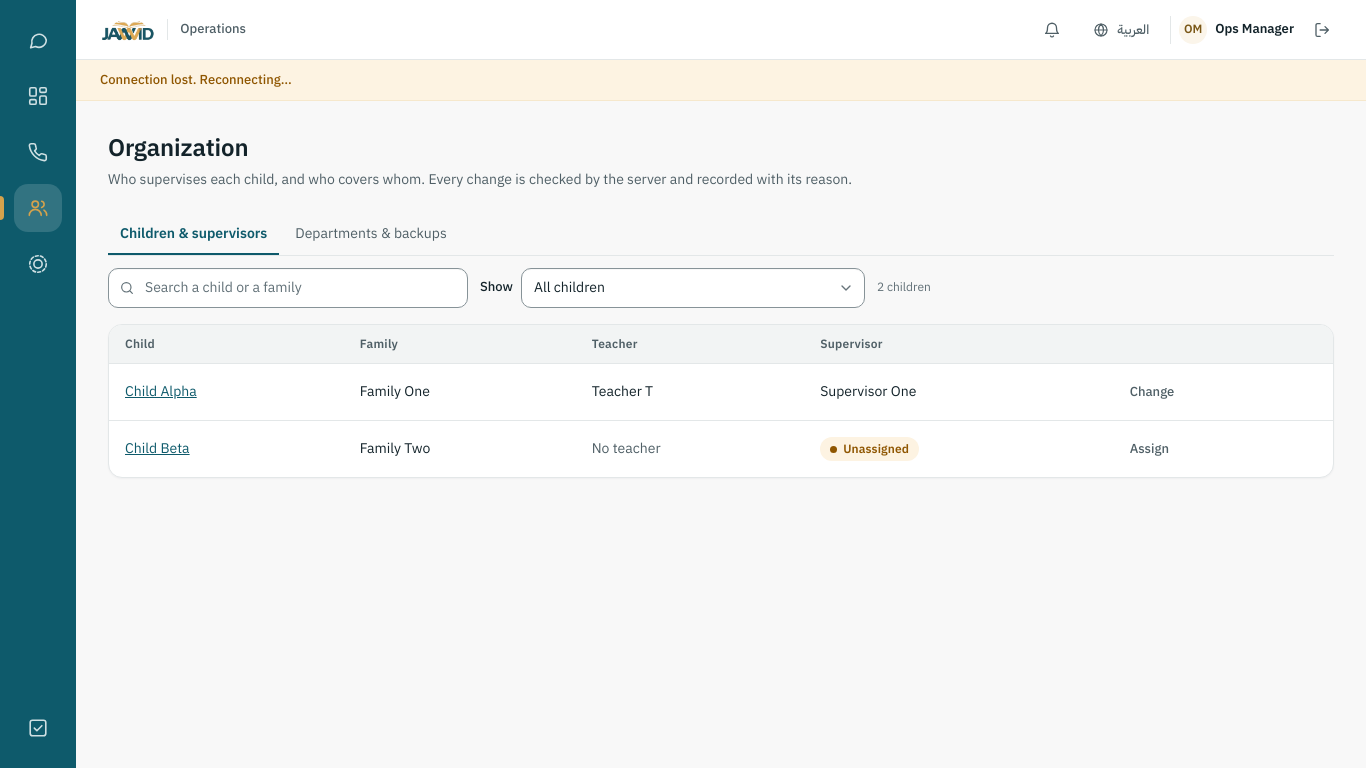
Test case: children and their supervisors › shows the server's refusal as it is, and keeps the dialog open
Click the button with aria-label "Assign — Child Beta" at coordinates (1149, 449), box 1117,433 -> 1182,465
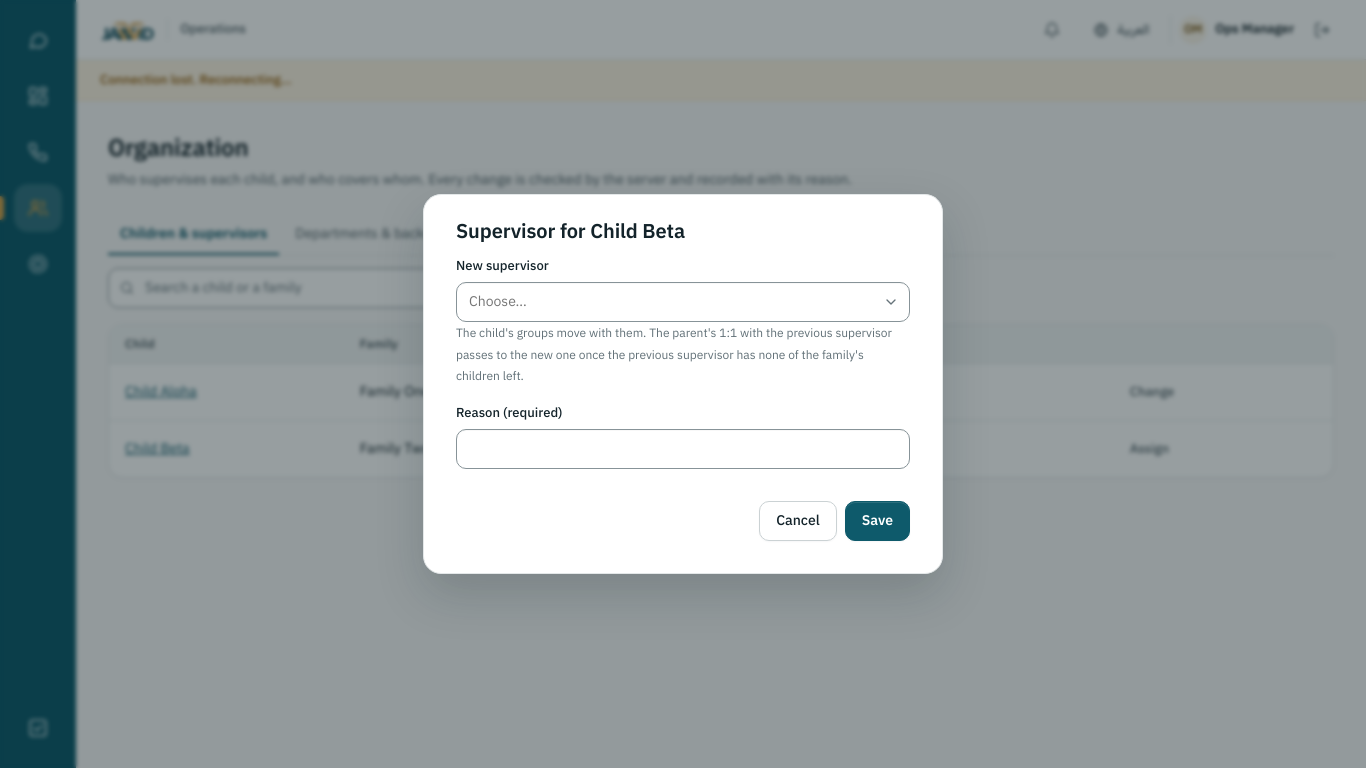
Click the dropdown labelled "New supervisor" at coordinates (683, 302), box 456,282 -> 910,322
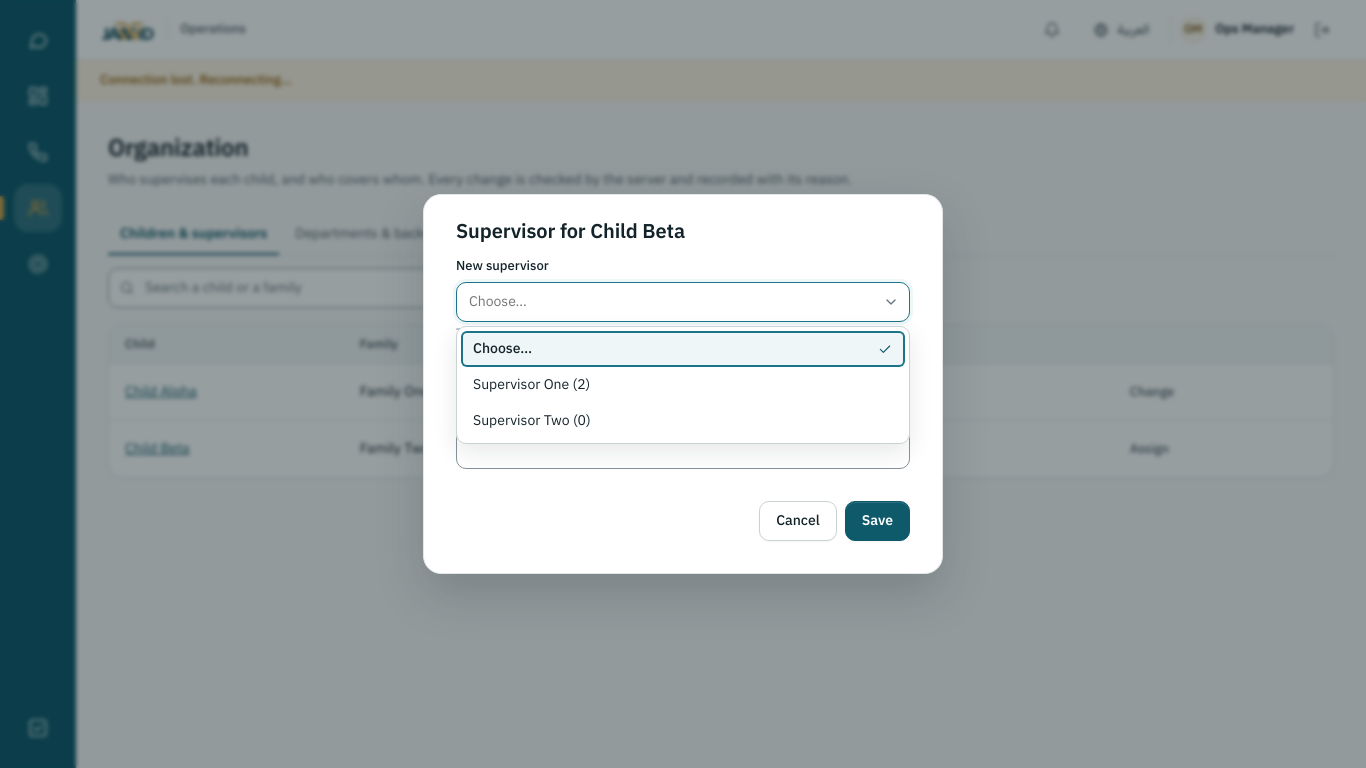
Click the option "Supervisor Two (0)" at coordinates (532, 421), box 473,410 -> 591,431
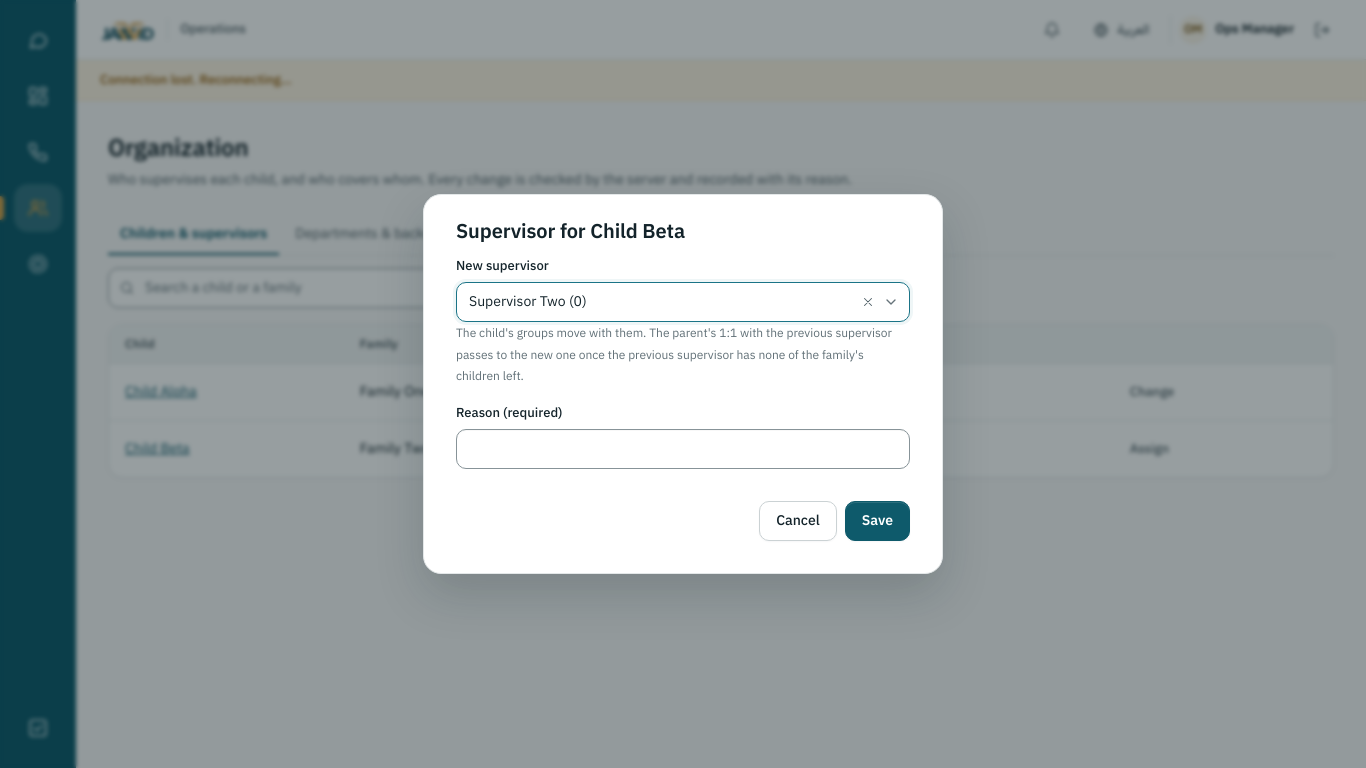
Type "x" into the field labelled "Reason (required)" at coordinates (683, 449), box 456,429 -> 910,469
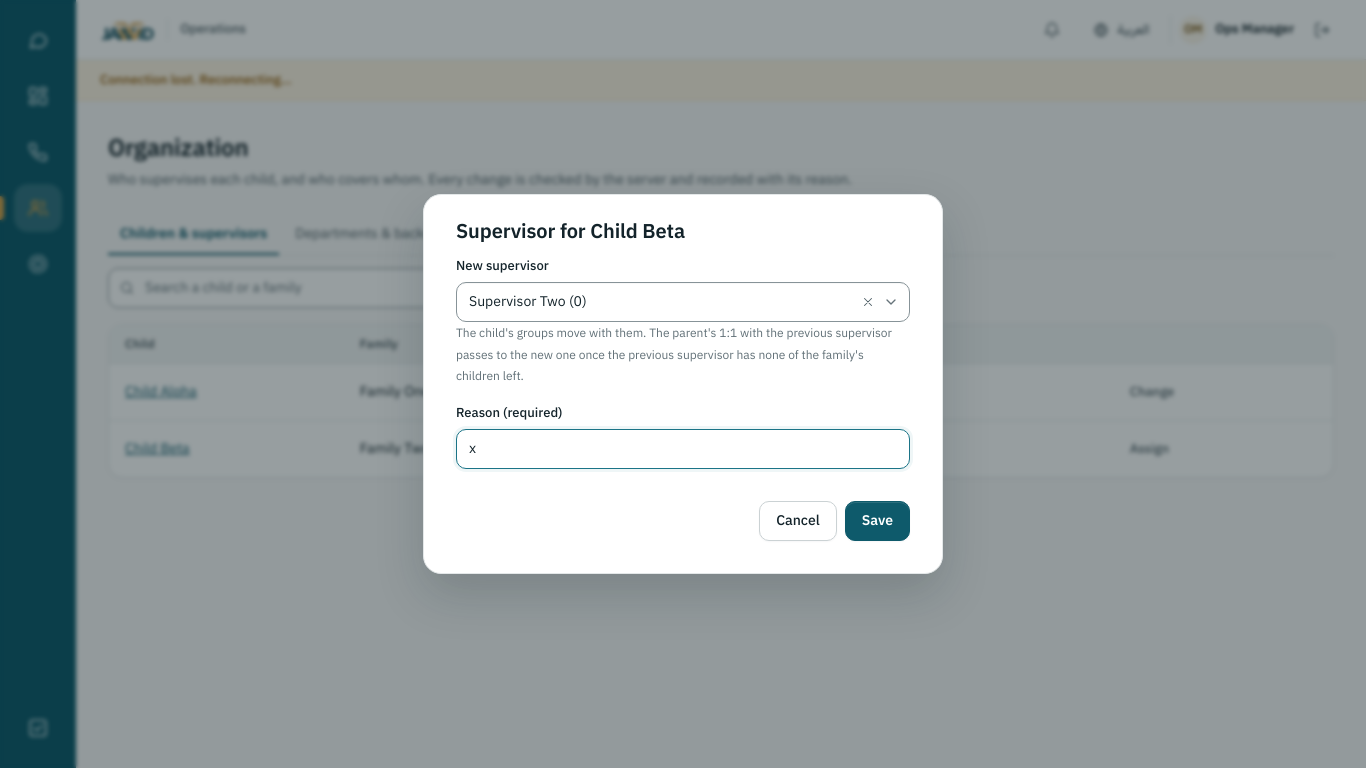
Click the button "Save" at coordinates (877, 521), box 845,501 -> 910,541
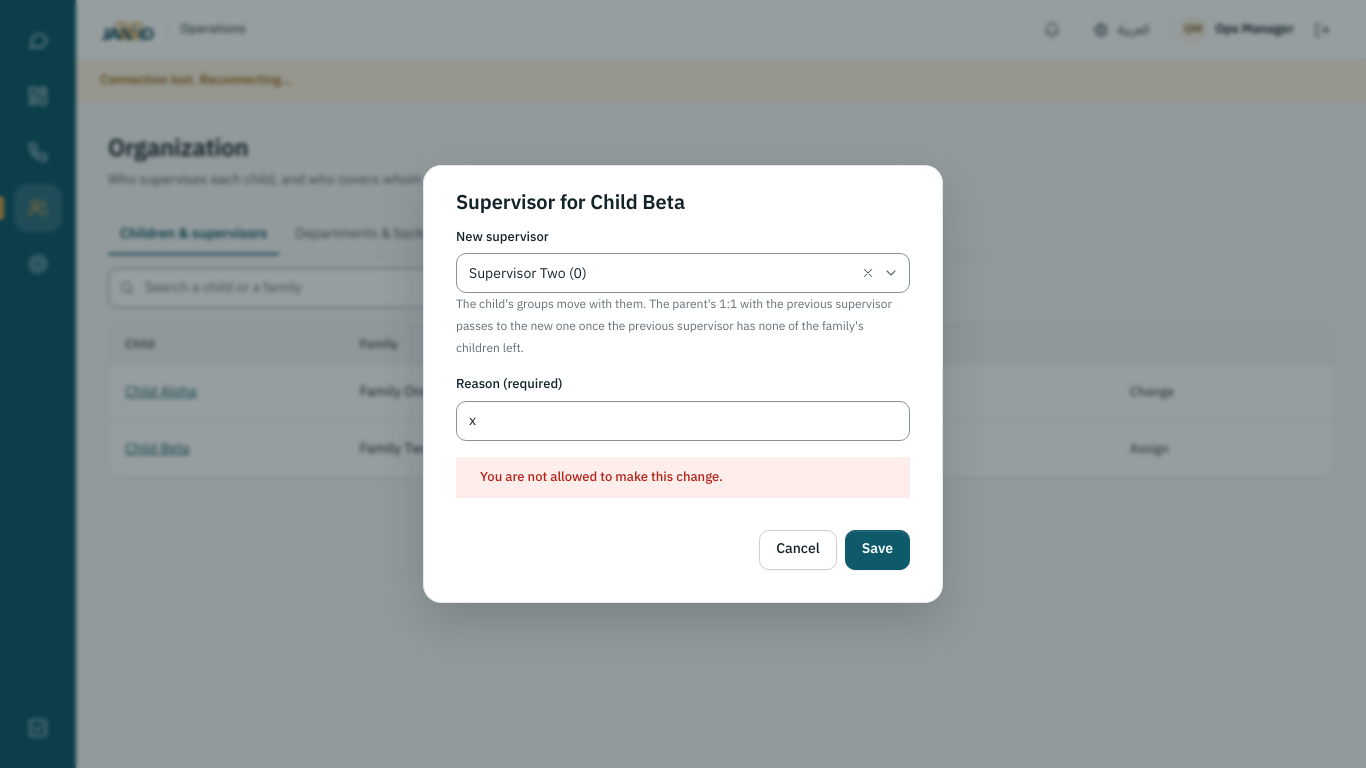
Expected: the message "You are not allowed to make this change." is shown, 456,457 -> 910,498
